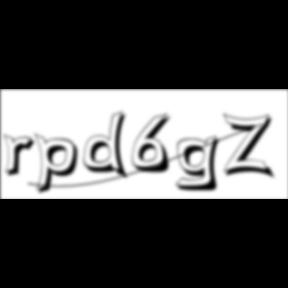6: (132, 112, 178, 176)
Z: (222, 112, 278, 181)
d: (84, 110, 134, 182)
g: (175, 134, 227, 194)
p: (35, 132, 85, 198)
r: (4, 134, 42, 180)
